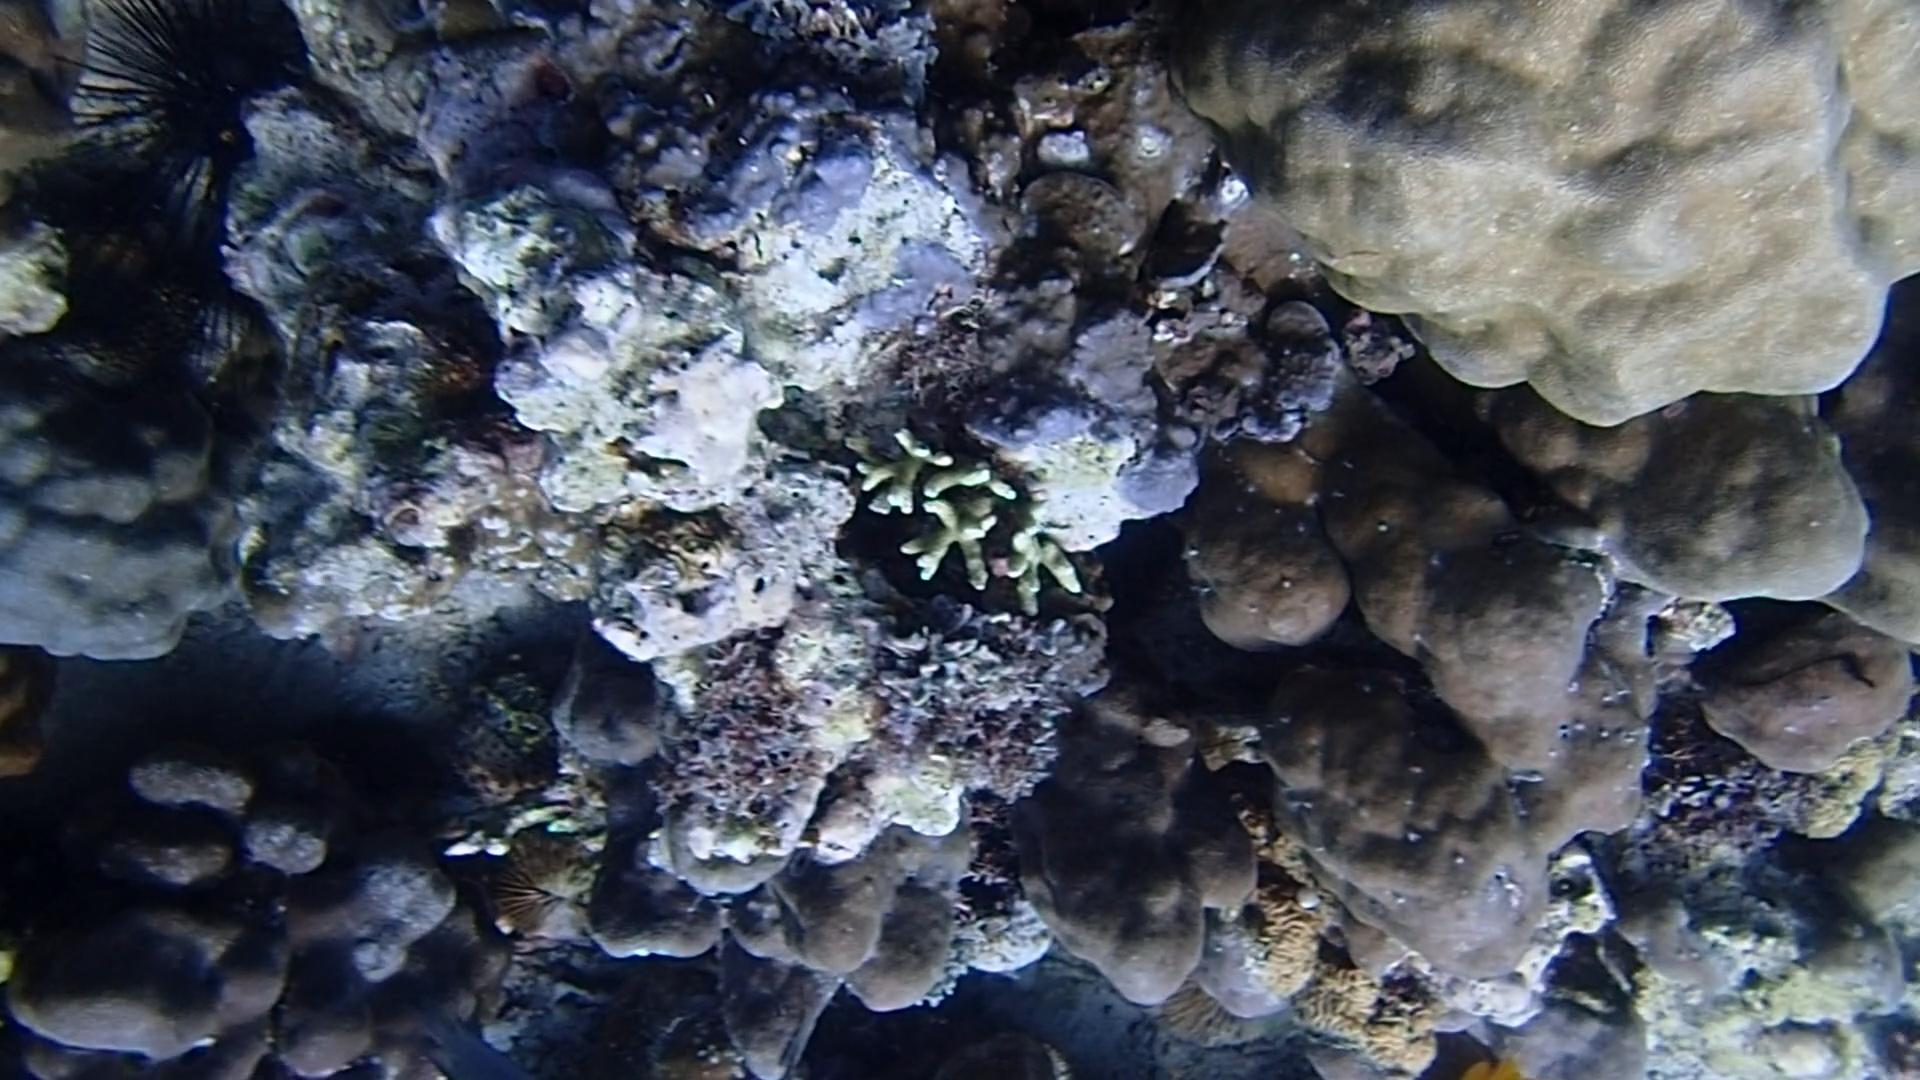Blue Fish Two: (402, 997, 535, 1080)
Yellow Fish: (1462, 1044, 1526, 1080)
